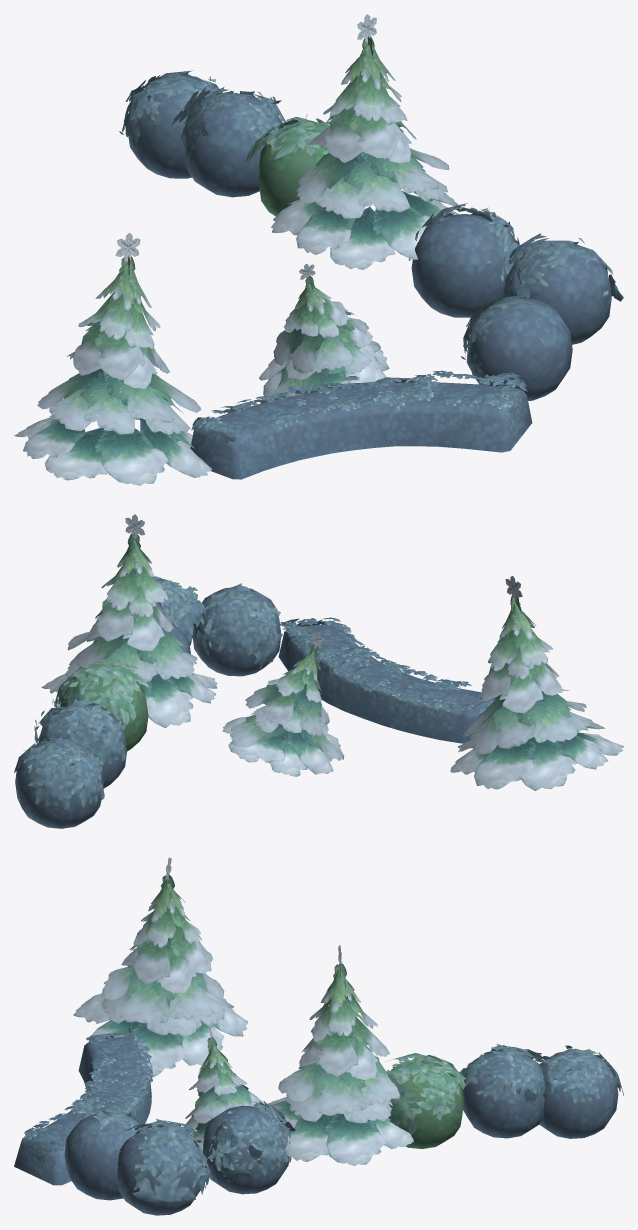
File: pref_sm_beach_bk_winter_pointmol_longplant_R01_lv1.fbx
3 views of the same model, one above another, from view 1: azimuth 30°, elevation 25°; view 2: azimuth 150°, elevation 25°; view 3: azimuth 270°, elevation 25° (orthographic). The views are drawn at different scales.
Visible parts, largest first — view 1: sm_beach_bk_winter_pointmol_longplant_R01_lv1; view 2: sm_beach_bk_winter_pointmol_longplant_R01_lv1; view 3: sm_beach_bk_winter_pointmol_longplant_R01_lv1.
Part boxes in pixels (box(x1,y1,x2,y2)): sm_beach_bk_winter_pointmol_longplant_R01_lv1: box(14, 14, 623, 485); sm_beach_bk_winter_pointmol_longplant_R01_lv1: box(14, 514, 623, 828); sm_beach_bk_winter_pointmol_longplant_R01_lv1: box(14, 857, 623, 1215).
Bounding box in the file's own units: 20.34 × 10.25 × 21.64.
